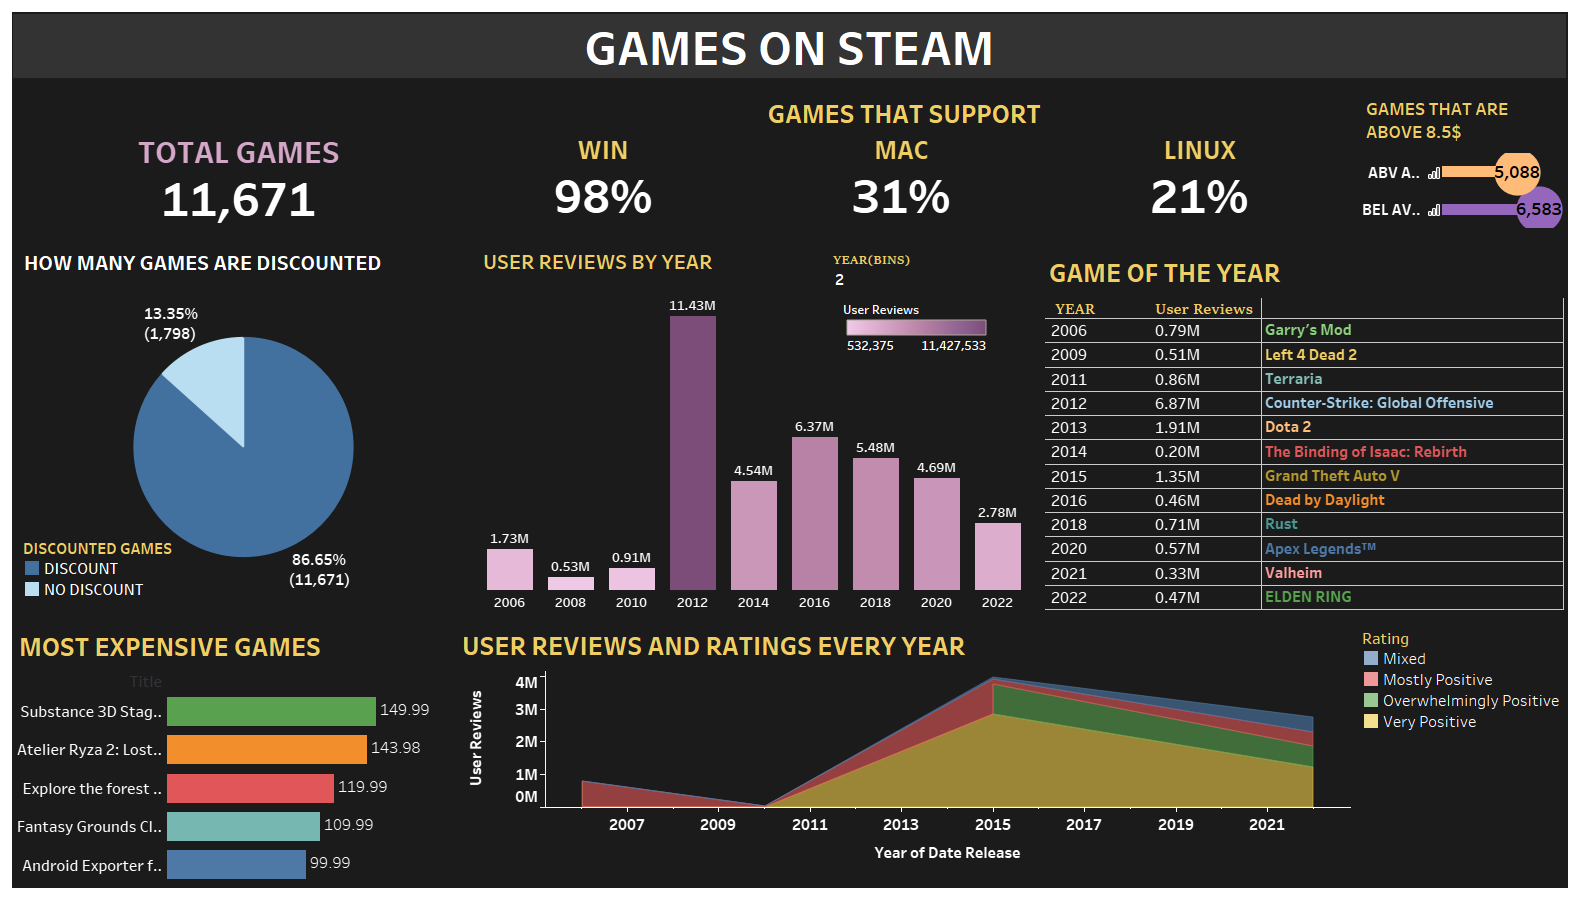

The page's visual inventory and layout, read from the dashboard file:
{"tool":"tableau","page":{"name":"DASHOBARD","canvas":[1580,900],"ordinal":0},"visuals":[{"type":"image","param":"C:/Users/abhin/Downloads/xbox3 darker.jpg","box":[8,8,1564,884]},{"type":"text","box":[13,14,1553,64]},{"type":"worksheet","title":"TOTAL","mark":"Automatic","box":[22,82,434,142]},{"type":"worksheet","title":"WITHOUT TOTAL","mark":"Automatic","box":[454,90,895,140]},{"type":"worksheet","title":"ABV BEL","mark":"Automatic","rows":["Calculation_1180224580106981376"],"cols":["Calculation_1180224580106981376","Calculation_1180224580106981376"],"box":[1362,90,206,138]},{"type":"worksheet","title":"HIST","mark":"Automatic","rows":["user_reviews"],"cols":["YEAR (bin) 2"],"box":[479,241,550,371]},{"type":"worksheet","title":"PIE","mark":"Pie","box":[20,242,447,368]},{"type":"worksheet","title":"GAME OF THE YEAR","mark":"Automatic","rows":["YEAR (bin) 2 1","user_reviews"],"box":[1045,249,519,361]},{"type":"parameter","param":"[Parameters].[Parameter 2]","box":[833,253,194,54]},{"type":"legend","title":"HIST","param":"[federated.11ytm9v19cdx691ed9jac0051bdr].[sum:user_reviews:qk]","box":[843,297,148,54]},{"type":"legend","title":"PIE","param":"[federated.11ytm9v19cdx691ed9jac0051bdr].[none:Calculation_1180224580124094465:n","box":[22,536,164,69]},{"type":"worksheet","title":"USER REVIEWAND RATINGS","mark":"Area","rows":["user_reviews"],"cols":["date_release"],"box":[458,622,892,248]},{"type":"worksheet","title":"EXPENSIVE","mark":"Automatic","rows":["title"],"cols":["price_final"],"box":[15,623,429,261]},{"type":"legend","title":"USER REVIEWAND RATINGS","param":"[federated.11ytm9v19cdx691ed9jac0051bdr].[none:rating:nk]","box":[1361,626,203,106]}]}

Visuals, with their boxes in screenshot pixels (x1, y1, x2, y2), scaled from the page's 1580x900 canvas onto the 1580x900 screenshot:
image: <region>8, 8, 1572, 892</region>
text: <region>13, 14, 1566, 78</region>
"TOTAL" worksheet: <region>22, 82, 456, 224</region>
"WITHOUT TOTAL" worksheet: <region>454, 90, 1349, 230</region>
"ABV BEL" worksheet: <region>1362, 90, 1568, 228</region>
"HIST" worksheet: <region>479, 241, 1029, 612</region>
"PIE" worksheet (Pie marks): <region>20, 242, 467, 610</region>
"GAME OF THE YEAR" worksheet: <region>1045, 249, 1564, 610</region>
parameter: <region>833, 253, 1027, 307</region>
"HIST" legend: <region>843, 297, 991, 351</region>
"PIE" legend: <region>22, 536, 186, 605</region>
"USER REVIEWAND RATINGS" worksheet (Area marks): <region>458, 622, 1350, 870</region>
"EXPENSIVE" worksheet: <region>15, 623, 444, 884</region>
"USER REVIEWAND RATINGS" legend: <region>1361, 626, 1564, 732</region>
